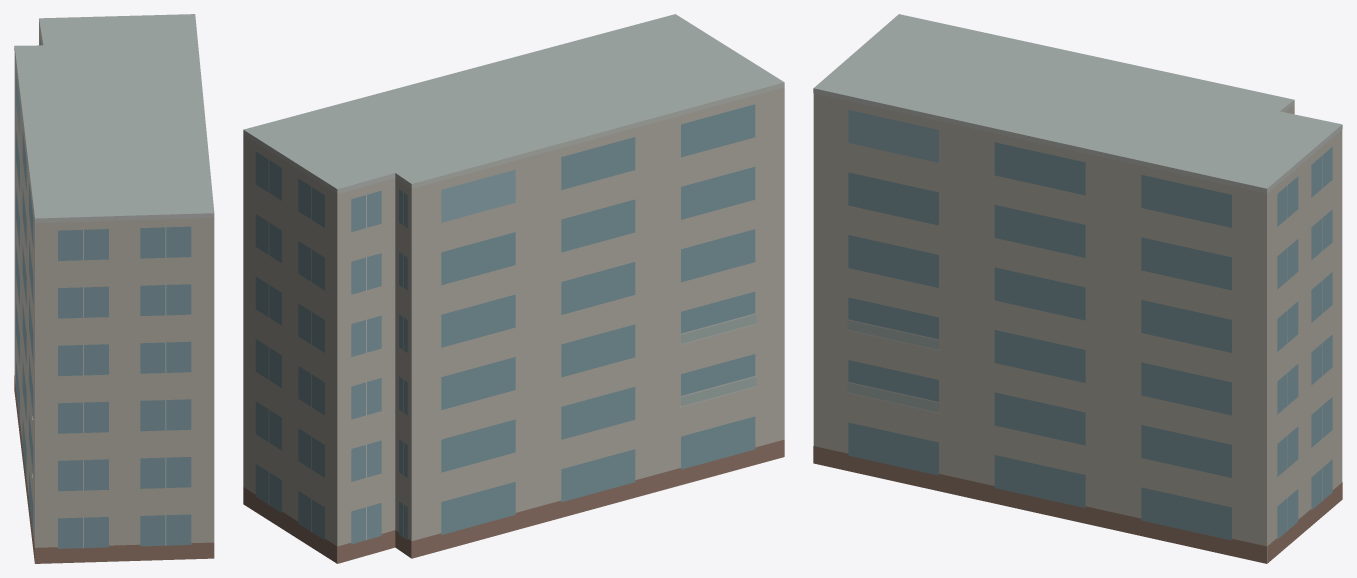
The model's file is survey-upis-33022034.glb.
The picture shows the model from 3 angles, left to right: view 1: azimuth 30°, elevation 25°; view 2: azimuth 150°, elevation 25°; view 3: azimuth 270°, elevation 25°; orthographic projection. The views are drawn at different scales.
Visible parts, largest first — view 1: survey-upis-33022034.tmp; view 2: survey-upis-33022034.tmp; view 3: survey-upis-33022034.tmp.
Boxes of the visible parts, x1,y1,x2,y2 form: survey-upis-33022034.tmp: (14,14,214,563); survey-upis-33022034.tmp: (243,14,784,563); survey-upis-33022034.tmp: (813,14,1342,563).
Size of the model in its own units: 18.29 by 18.3 by 23.4.
